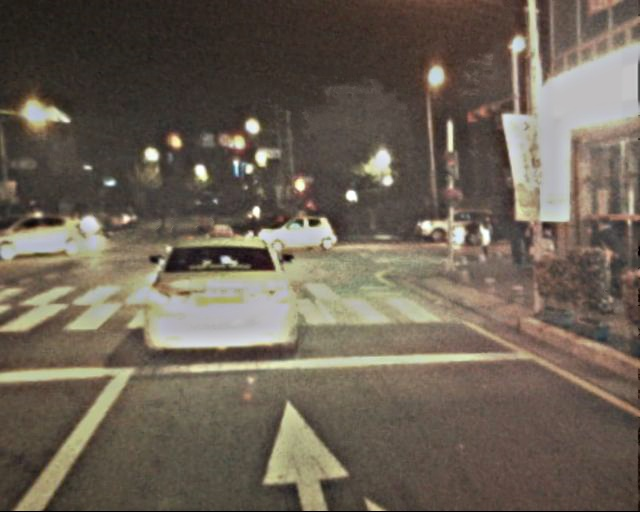person: (586, 216, 630, 323), (507, 201, 526, 268), (76, 200, 114, 229), (476, 218, 494, 263), (152, 206, 166, 240), (165, 205, 179, 239), (190, 207, 204, 240), (206, 206, 219, 238), (242, 208, 255, 240)
